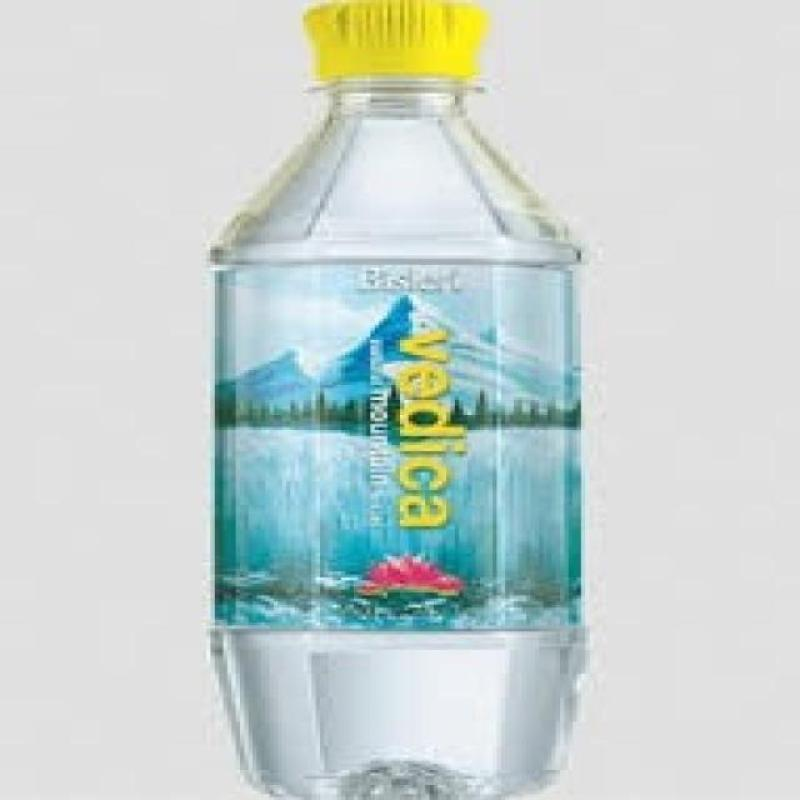botella: (206, 0, 590, 800)
